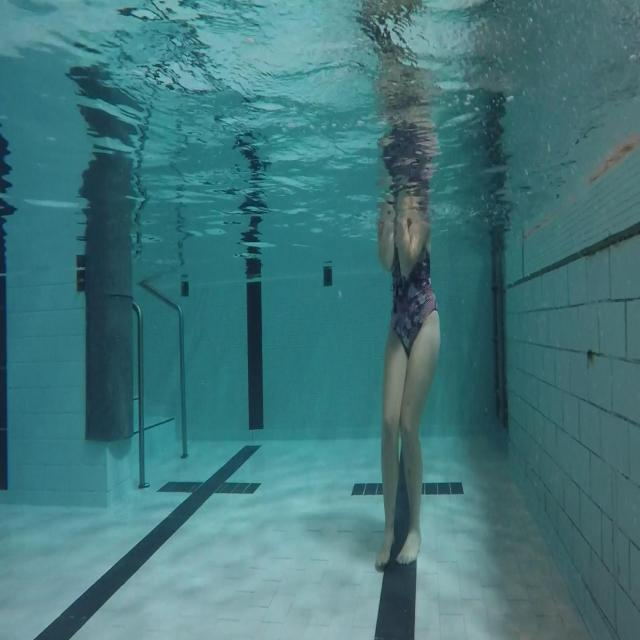human: (355, 2, 442, 572)
